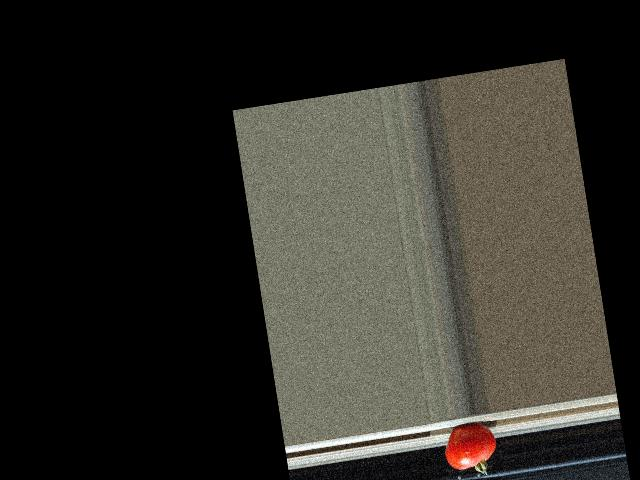tomato: (442, 421, 500, 480)
